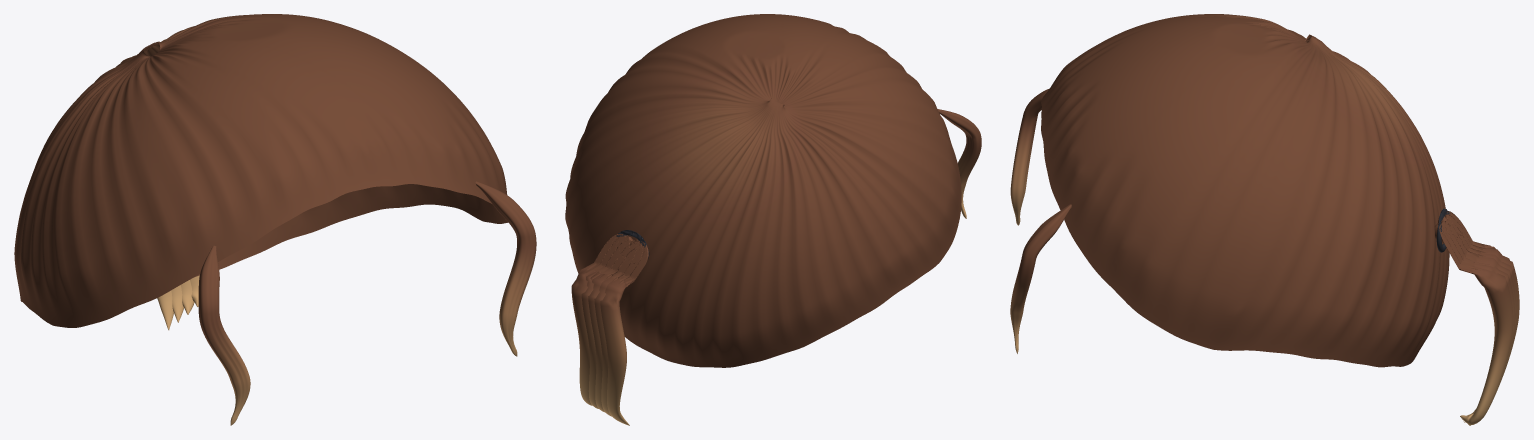
File: ponytail-bucket-ombre.glb
3 views of the same model, side by side, from view 1: azimuth 30°, elevation 25°; view 2: azimuth 150°, elevation 25°; view 3: azimuth 270°, elevation 25° (orthographic). The views are drawn at different scales.
Parts seen in each view (by area): view 1: 226 hair / Hair / crisp pulled roots220.002, 226 hair / Hair / sculpted front locks222.002, 226 hair / Hair / chestnut226.001; view 2: 226 hair / Hair / crisp pulled roots220.002, 226 hair / Hair / chestnut226.001, 226 hair / Hair / sculpted front locks222.002; view 3: 226 hair / Hair / crisp pulled roots220.002, 226 hair / Hair / chestnut226.001, 226 hair / Hair / sculpted front locks222.002.
Part boxes in pixels (bbox=[...]): 226 hair / Hair / crisp pulled roots220.002: bbox=[14, 14, 507, 327]; 226 hair / Hair / sculpted front locks222.002: bbox=[198, 181, 536, 425]; 226 hair / Hair / chestnut226.001: bbox=[157, 275, 199, 330]; 226 hair / Hair / crisp pulled roots220.002: bbox=[565, 14, 961, 367]; 226 hair / Hair / chestnut226.001: bbox=[571, 233, 648, 425]; 226 hair / Hair / sculpted front locks222.002: bbox=[937, 109, 981, 218]; 226 hair / Hair / crisp pulled roots220.002: bbox=[1041, 14, 1449, 367]; 226 hair / Hair / chestnut226.001: bbox=[1434, 211, 1519, 425]; 226 hair / Hair / sculpted front locks222.002: bbox=[1010, 89, 1071, 353].
Size of the model in its own units: 0.7726 by 0.6856 by 0.854.
4 materials, 3 textured.
